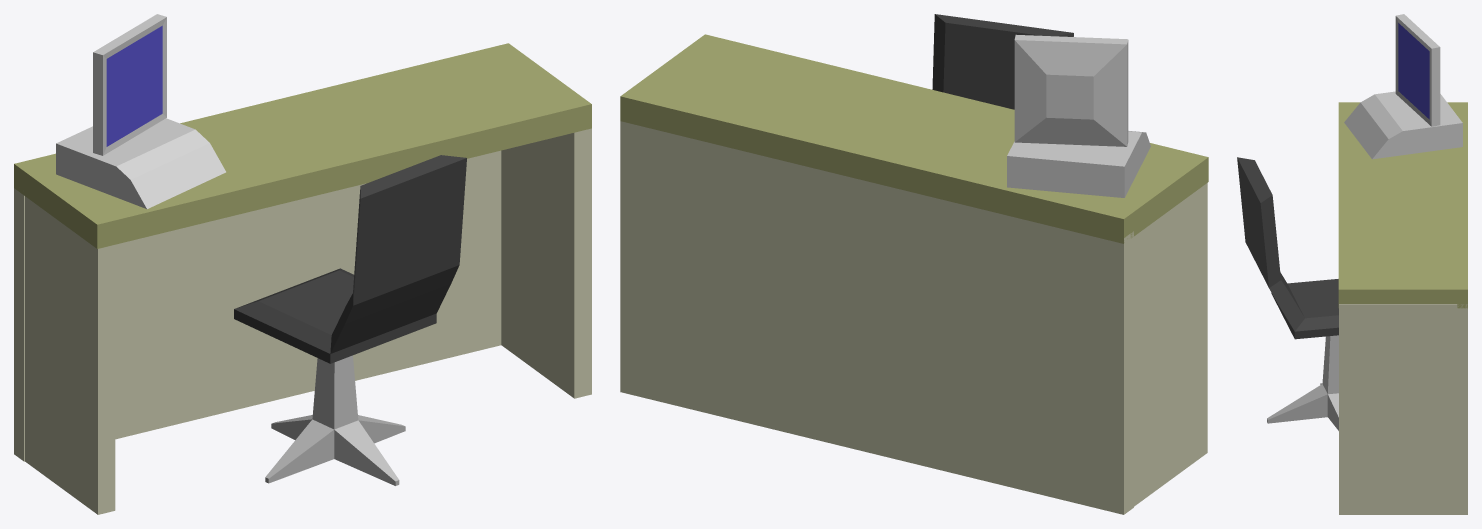
The model's file is kasse.gltf.
The picture shows the model from 3 angles, left to right: view 1: azimuth 30°, elevation 25°; view 2: azimuth 150°, elevation 25°; view 3: azimuth 270°, elevation 25°; orthographic projection. The views are drawn at different scales.
Parts seen in each view (by area): view 1: Cube.002, Cube, Cube.001, Cube.003, Cube.004, Cube.005, Cube.006; view 2: Cube.002, Cube, Cube.003, Cube.006, Cube.001, Cube.005; view 3: Cube.004, Cube, Cube.001, Cube.005, Cube.006, Cube.002.
Boxes of the visible parts, x1,y1,x2,y2 form: Cube.002: (14,150,501,461); Cube: (14,43,591,248); Cube.001: (234,155,466,485); Cube.003: (25,196,115,514); Cube.004: (501,128,591,398); Cube.005: (56,118,225,208); Cube.006: (93,14,166,155); Cube.002: (620,121,1133,514); Cube: (620,34,1208,243); Cube.003: (1134,183,1207,506); Cube.006: (1014,34,1128,146); Cube.001: (932,14,1073,109); Cube.005: (1007,131,1150,197); Cube.004: (1339,304,1457,514); Cube: (1338,102,1467,308); Cube.001: (1237,157,1338,430); Cube.005: (1344,91,1462,159); Cube.006: (1395,14,1440,126); Cube.002: (1457,304,1467,514).
Bounding box in the file's own units: 2.77 × 2.26 × 1.44.
